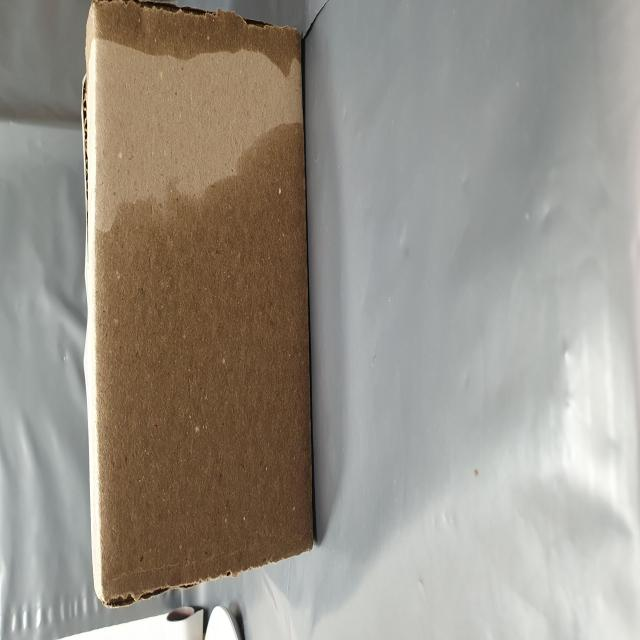wet: (29, 151, 360, 568)
